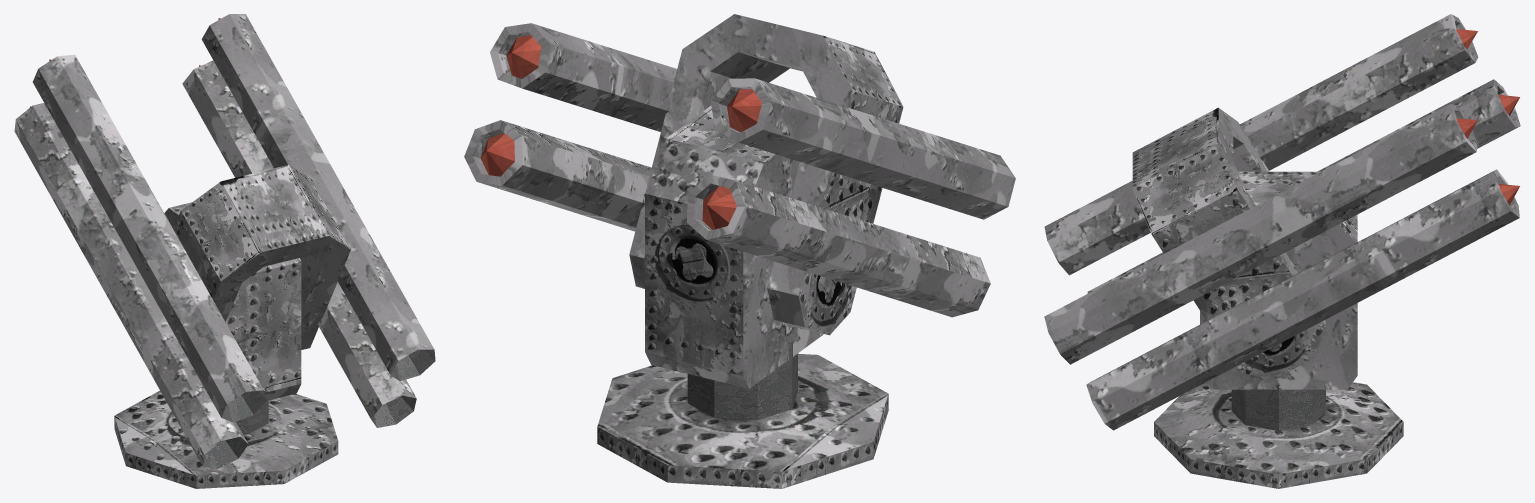
Rendered from samsite_sfxrf.obj.
3 renders of one model, left to right at view 1: azimuth 30°, elevation 25°; view 2: azimuth 150°, elevation 25°; view 3: azimuth 270°, elevation 25°, orthographic. The views are drawn at different scales.
Visible parts, largest first — view 1: samsite_SFXRF; view 2: samsite_SFXRF; view 3: samsite_SFXRF.
Part boxes in pixels (x1,y1,x2,y2): samsite_SFXRF: (14, 14, 435, 488); samsite_SFXRF: (464, 14, 1015, 488); samsite_SFXRF: (1044, 14, 1520, 488).
Size of the model in its own units: 1.7 by 2.65 by 3.05.
5 materials, 5 textured.
